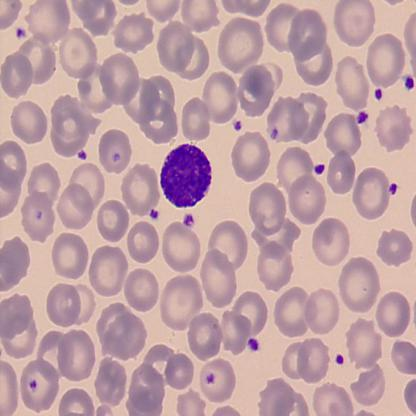Basophil: (158, 138, 214, 212)
